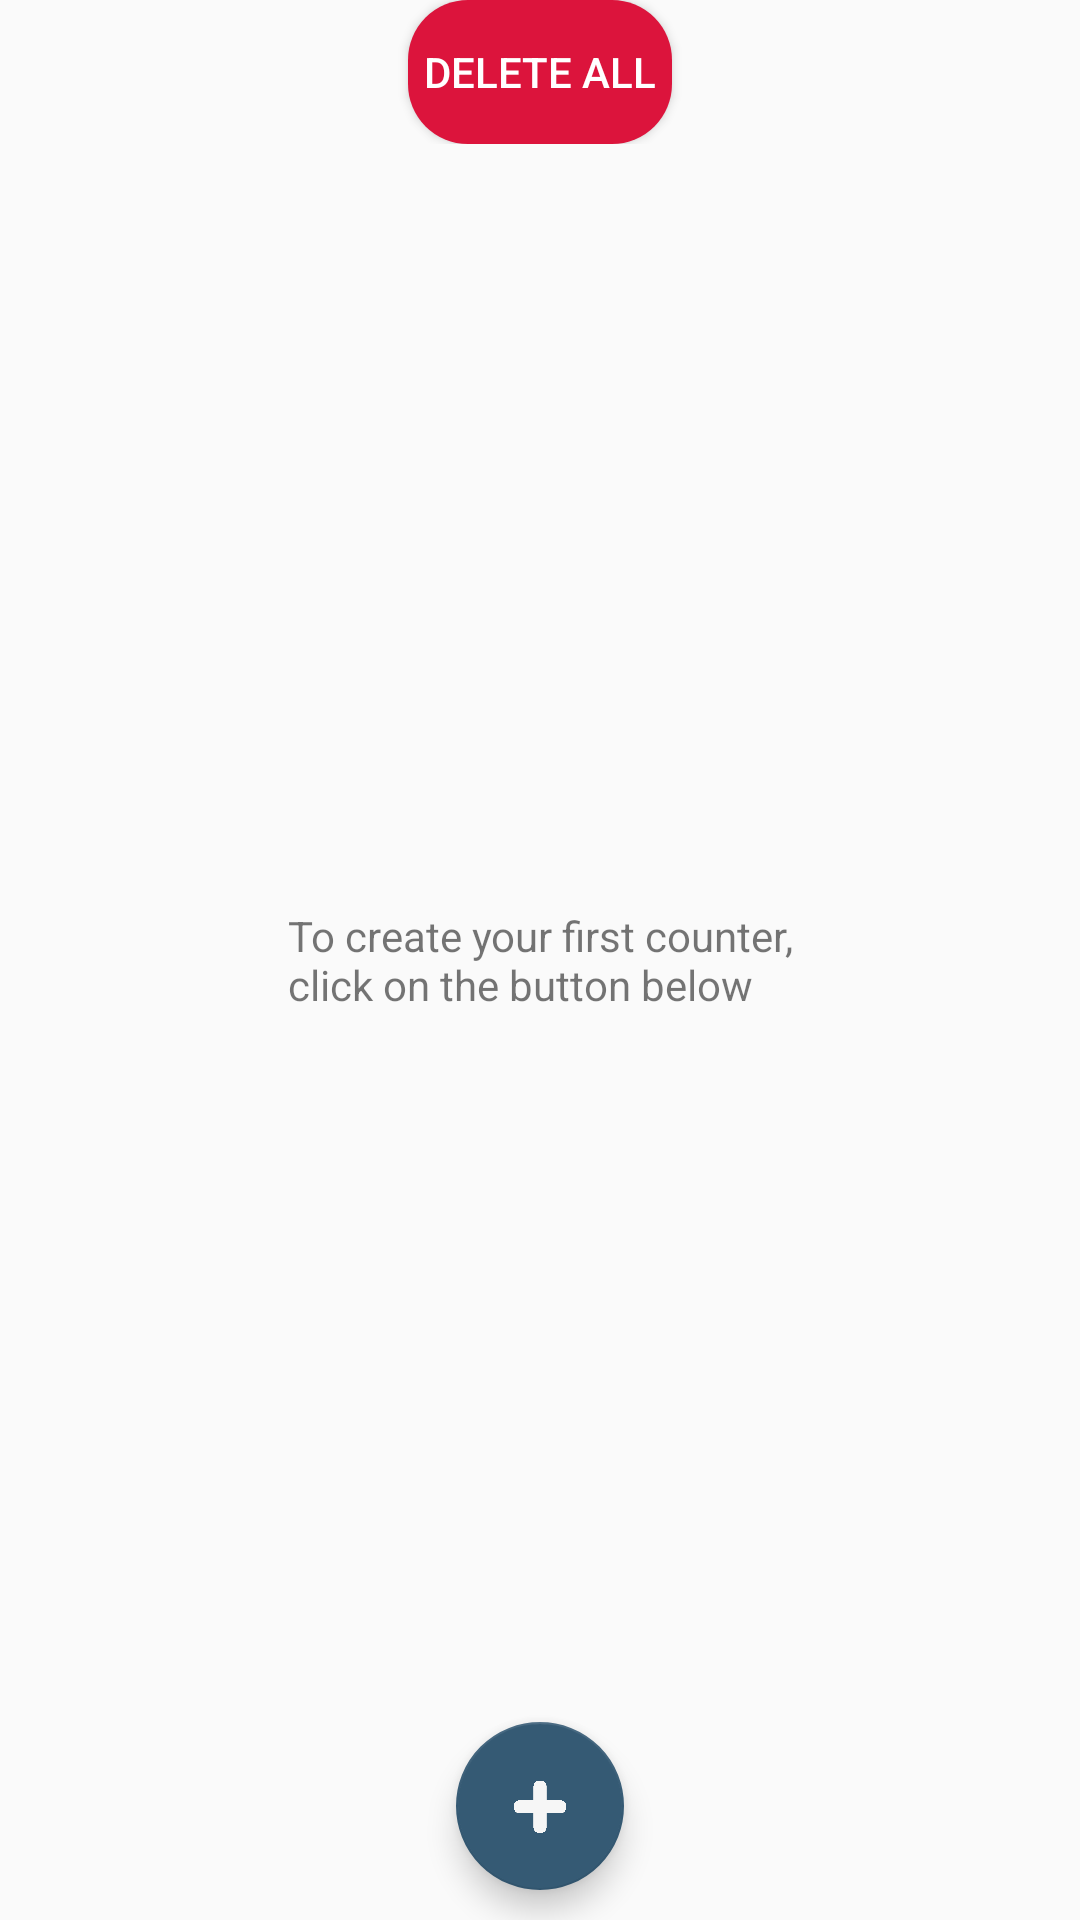

Named icons in this screenshot (1080px x 1920px) and their bounding boxes, (x1, y1, x2, y2):
create: (456, 1722, 624, 1890)
